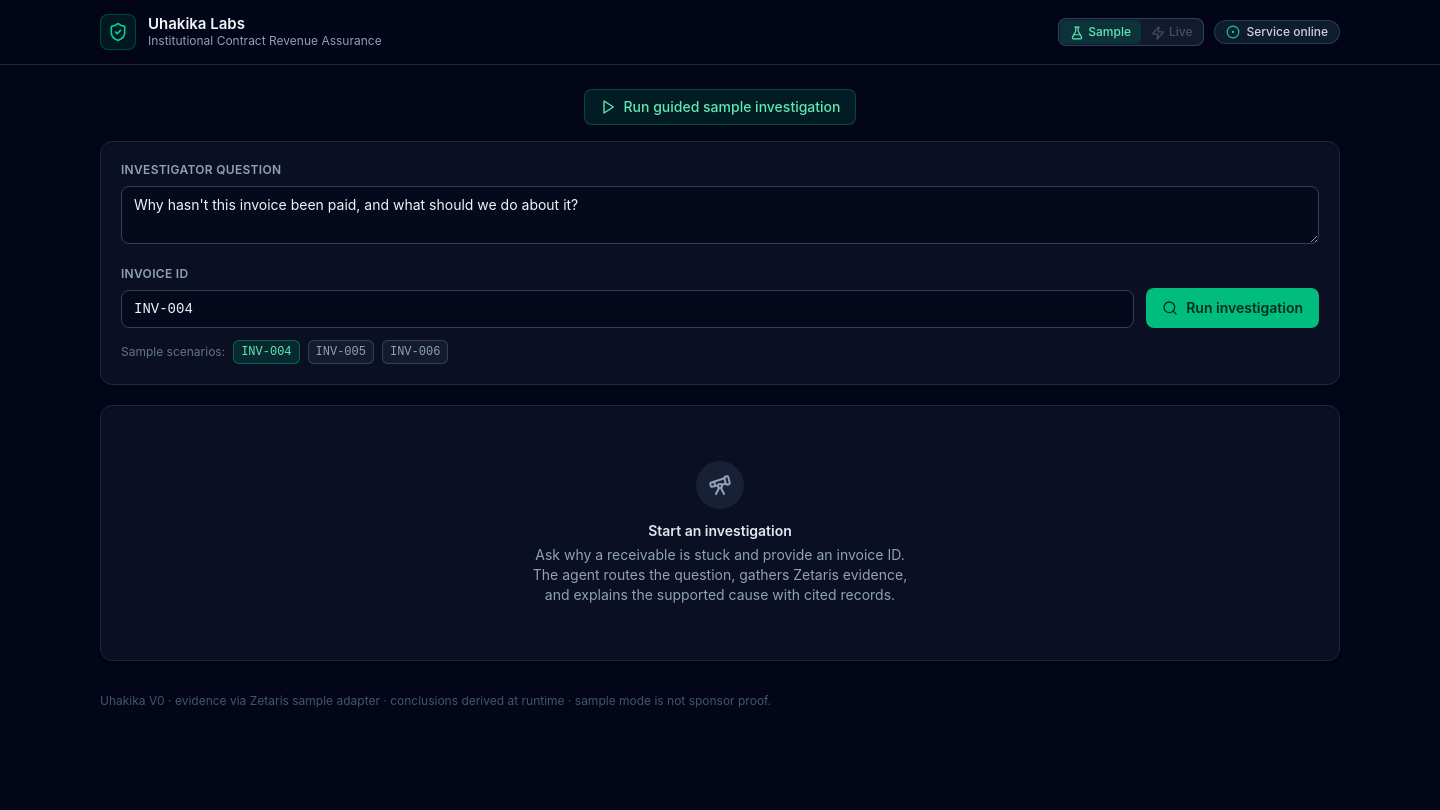
App — states › renders insufficient-evidence response
The image size is (1440, 810).
Click the button "Run guided sample investigation" at (720, 107), box [584,89,856,125]
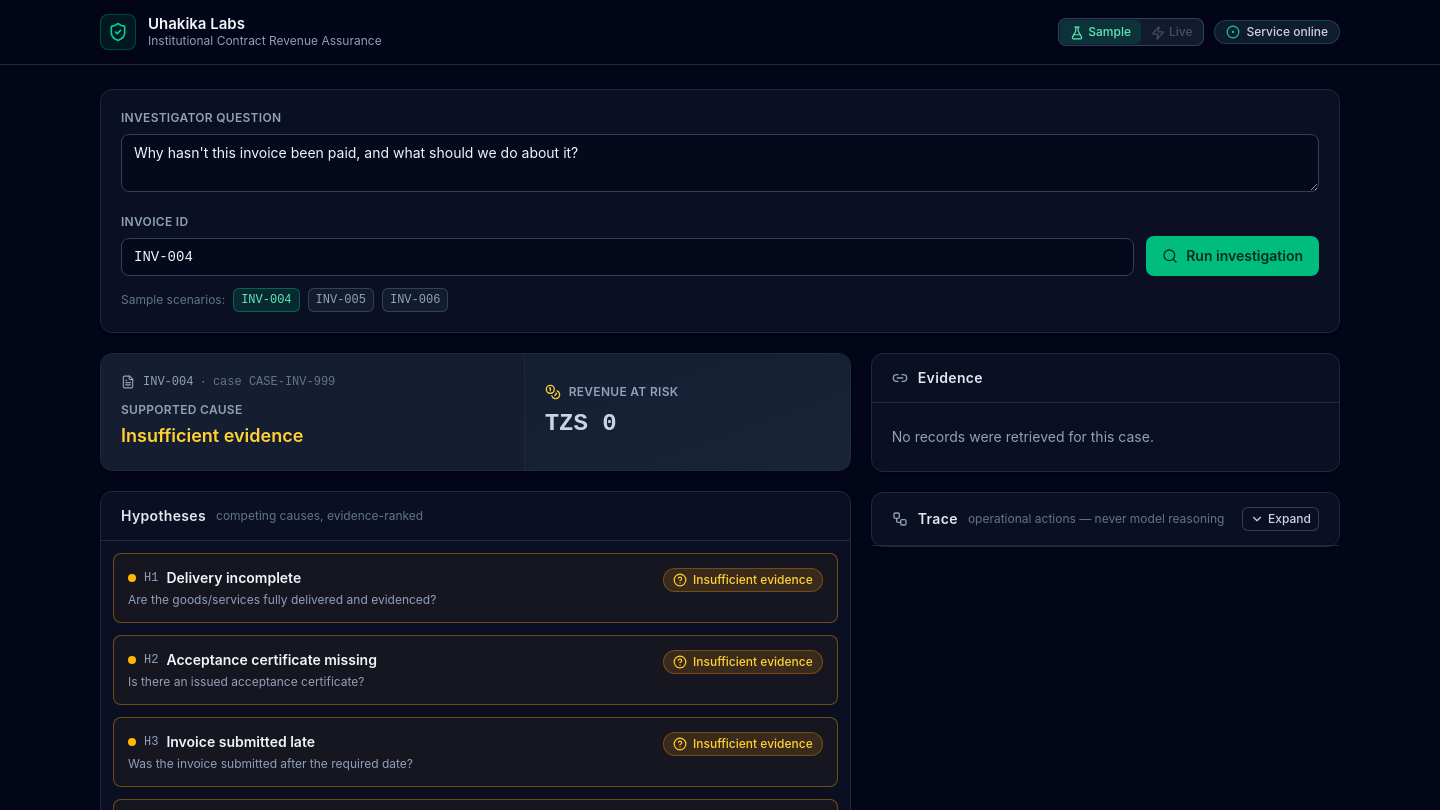
Now the text "Insufficient evidence" is shown, box [121,425,303,446]
